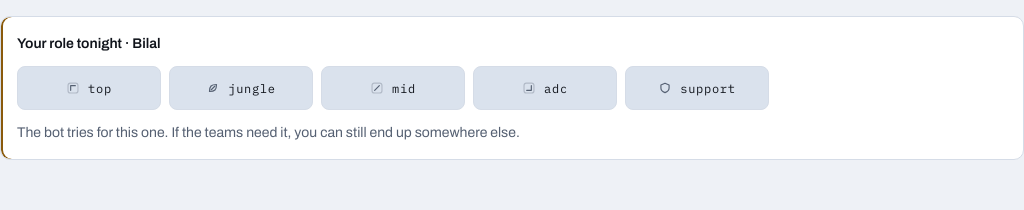
Scenario: the role control, for a linked viewer in tonight's lobby › says so when the request never reached the server
Step 1. Click the button "adc" → {"x": 545, "y": 88}, box [473, 66, 617, 110]
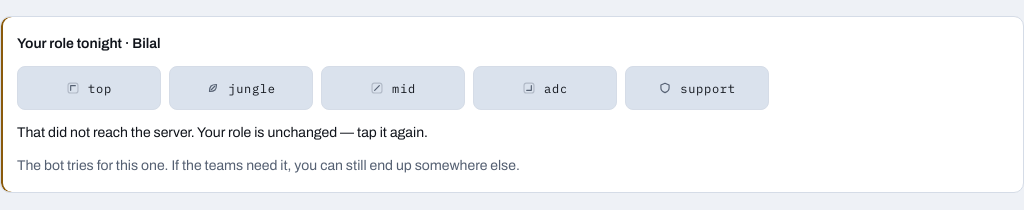
Result: the message reads "That did not reach the server. Your role is unchanged — tap it again." at [17, 125, 428, 140]
